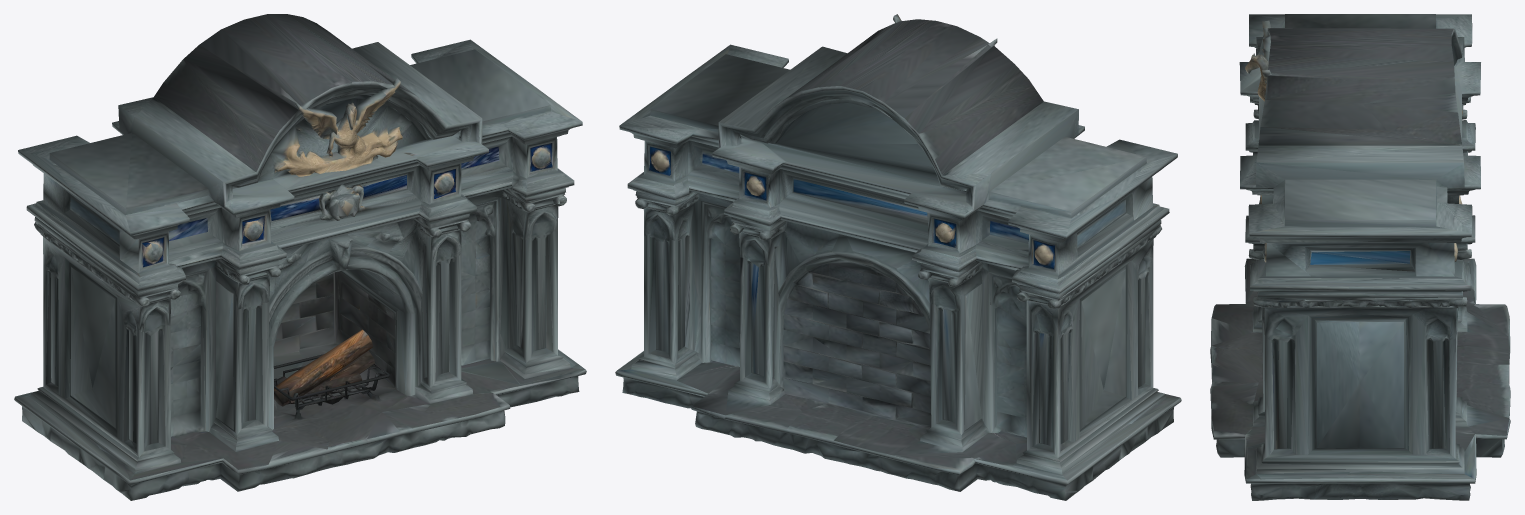
File: hearth_h4.glb
3 views of the same model, side by side, from view 1: azimuth 30°, elevation 25°; view 2: azimuth 150°, elevation 25°; view 3: azimuth 270°, elevation 25° (orthographic).
Parts seen in each view (by area): view 1: body; view 2: body; view 3: body.
Boxes of the visible parts, x1,y1,x2,y2 form: body: [14, 14, 586, 500]; body: [615, 14, 1181, 500]; body: [1210, 14, 1510, 500].
Size of the model in its own units: 3.09 by 2.3 by 1.77.
Materials: 1 (1 with a texture image).
